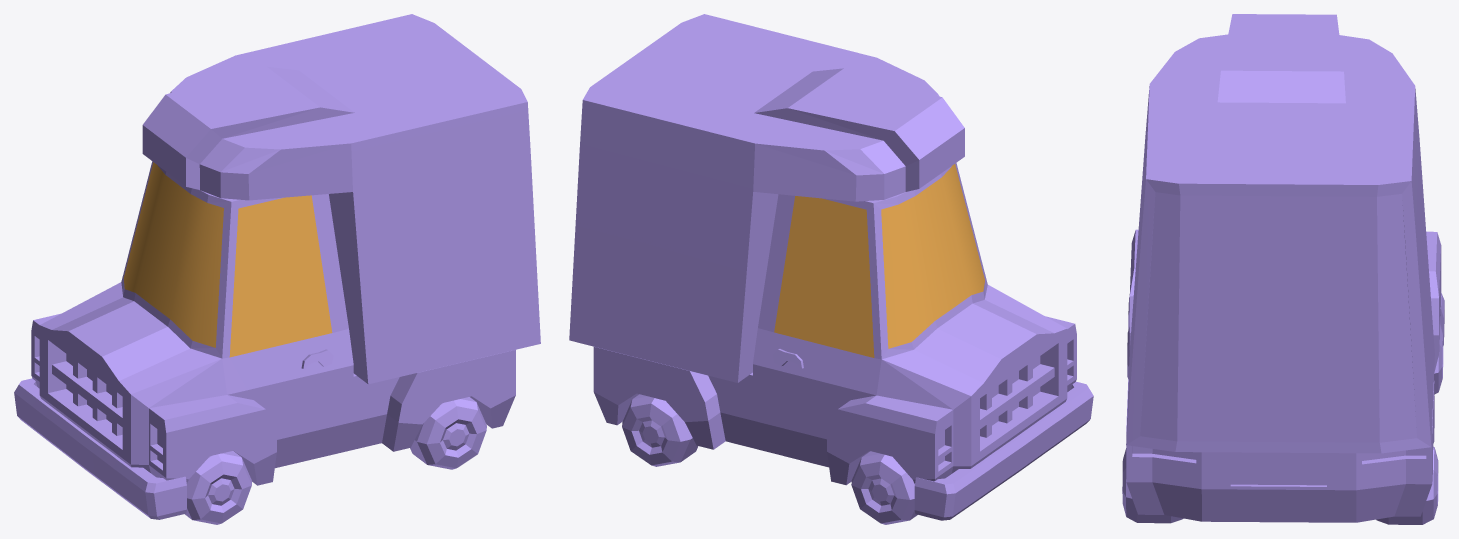
File: ToyObject_091.fbx
The picture shows the model from 3 angles, left to right: view 1: azimuth 30°, elevation 25°; view 2: azimuth 150°, elevation 25°; view 3: azimuth 270°, elevation 25°; orthographic projection. The views are drawn at different scales.
Parts seen in each view (by area): view 1: 1.018; view 2: 1.018; view 3: 1.018.
Boxes of the visible parts, box(x1,y1,x2,y2) form: 1.018: box(14, 14, 540, 524); 1.018: box(569, 14, 1093, 524); 1.018: box(1122, 14, 1444, 524).
Bounding box in the file's own units: 0.1676 × 0.1412 × 0.1031.
